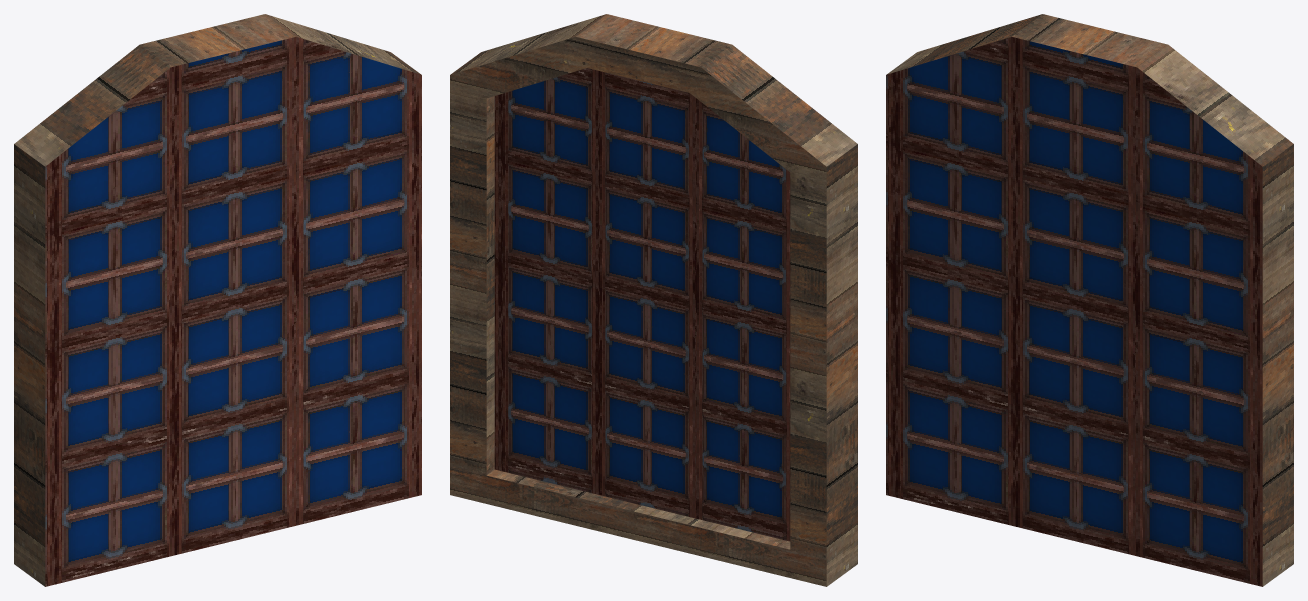
Rendered from window-full.glb.
3 renders of one model, left to right at view 1: azimuth 30°, elevation 25°; view 2: azimuth 150°, elevation 25°; view 3: azimuth 330°, elevation 25°, orthographic.
Parts seen in each view (by area): view 1: Window_Full; view 2: Window_Full; view 3: Window_Full.
Boxes of the visible parts, x1,y1,x2,y2 form: Window_Full: [14, 14, 421, 586]; Window_Full: [450, 14, 857, 586]; Window_Full: [886, 14, 1293, 586].
Size of the model in its own units: 0.7625 by 0.9459 by 0.1092.
1 material, 1 textured.
